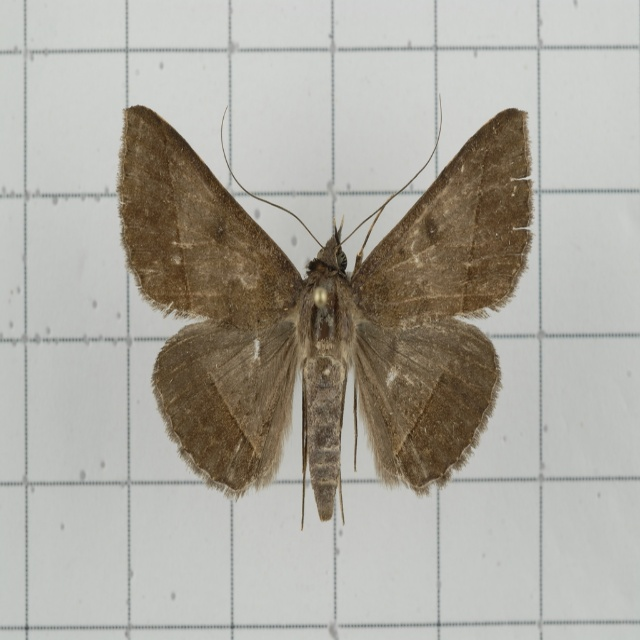Butterfly: (109, 90, 540, 520)
